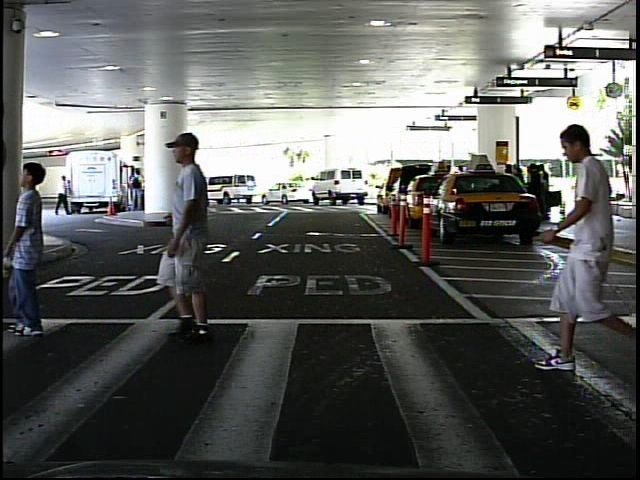person: (518, 114, 624, 381), (157, 129, 241, 342), (9, 156, 69, 345), (53, 171, 73, 221), (597, 172, 598, 217)
